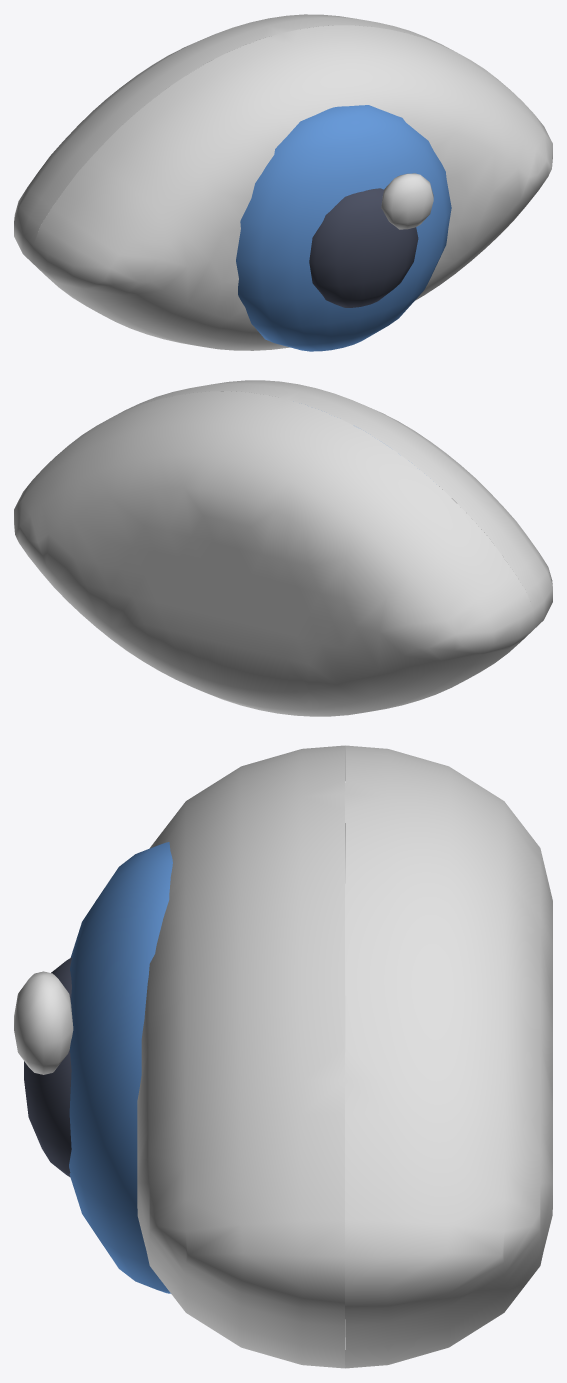
The model's file is eye.glb.
The picture shows the model from 3 angles, top to bottom: view 1: azimuth 30°, elevation 25°; view 2: azimuth 150°, elevation 25°; view 3: azimuth 270°, elevation 25°; orthographic projection. The views are drawn at different scales.
Visible parts, largest first — view 1: eye; view 2: eye; view 3: eye.
Boxes of the visible parts, x1,y1,x2,y2 form: eye: (14,14,552,351); eye: (14,380,552,716); eye: (14,745,552,1368).
Size of the model in its own units: 1 by 0.5716 by 0.5411.
